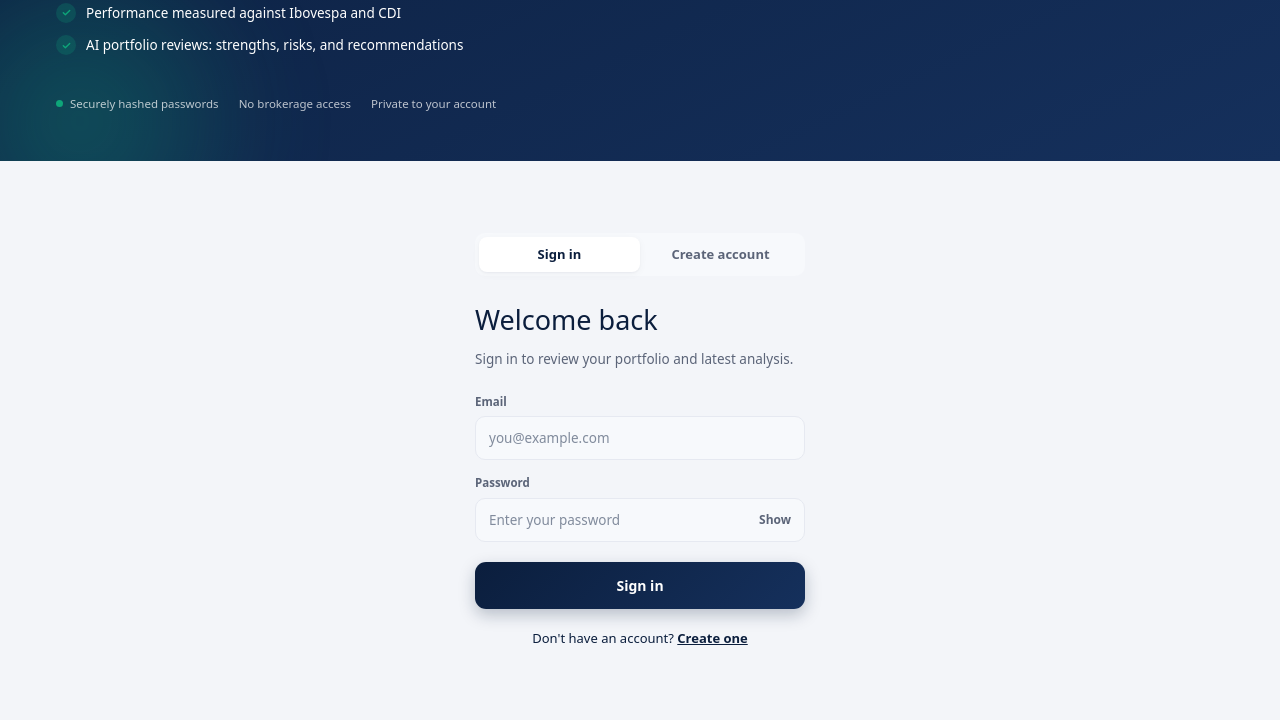
Test case: AuthScreen (signin mode) submit › rejecting with ApiError(401) shows "Email or password is incorrect.", never navigates, and keeps both input values
(page scrolled)
In the field labelled "Email": (640, 438) [475,416,805,460], type "ana@example.com"
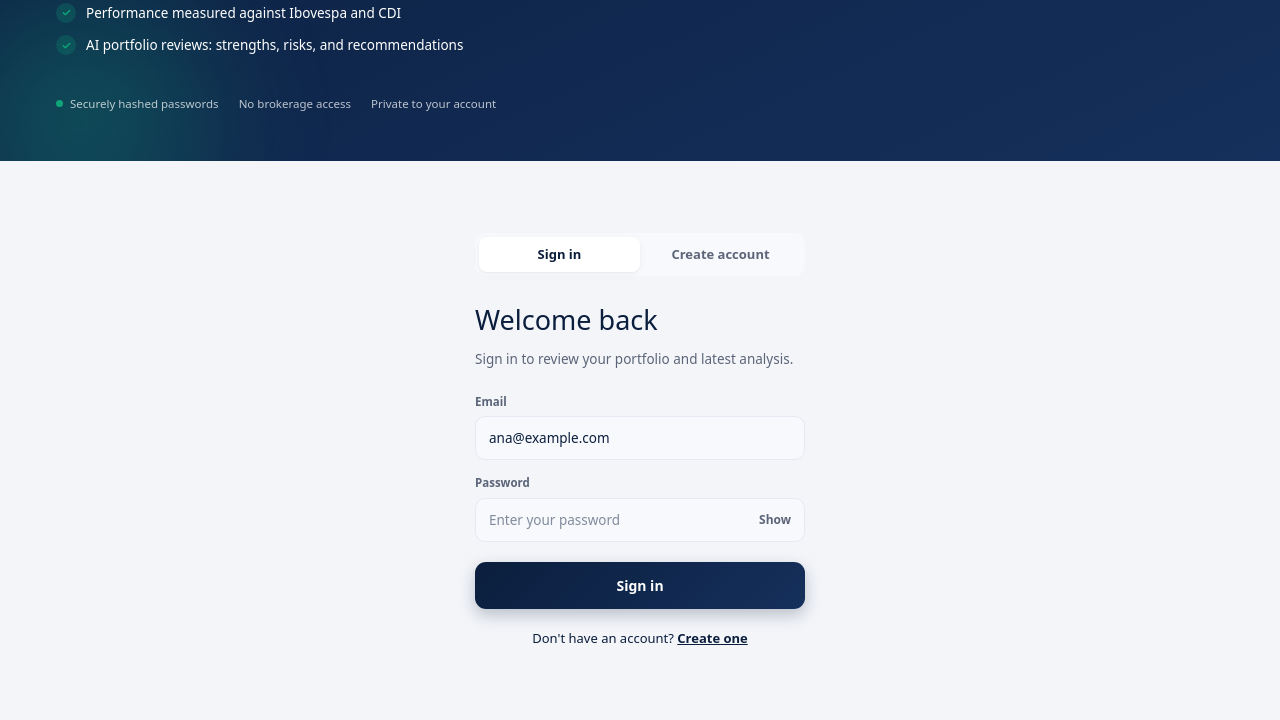
In the password field labelled "Password": (640, 520) [475,498,805,542], type "hunter2"
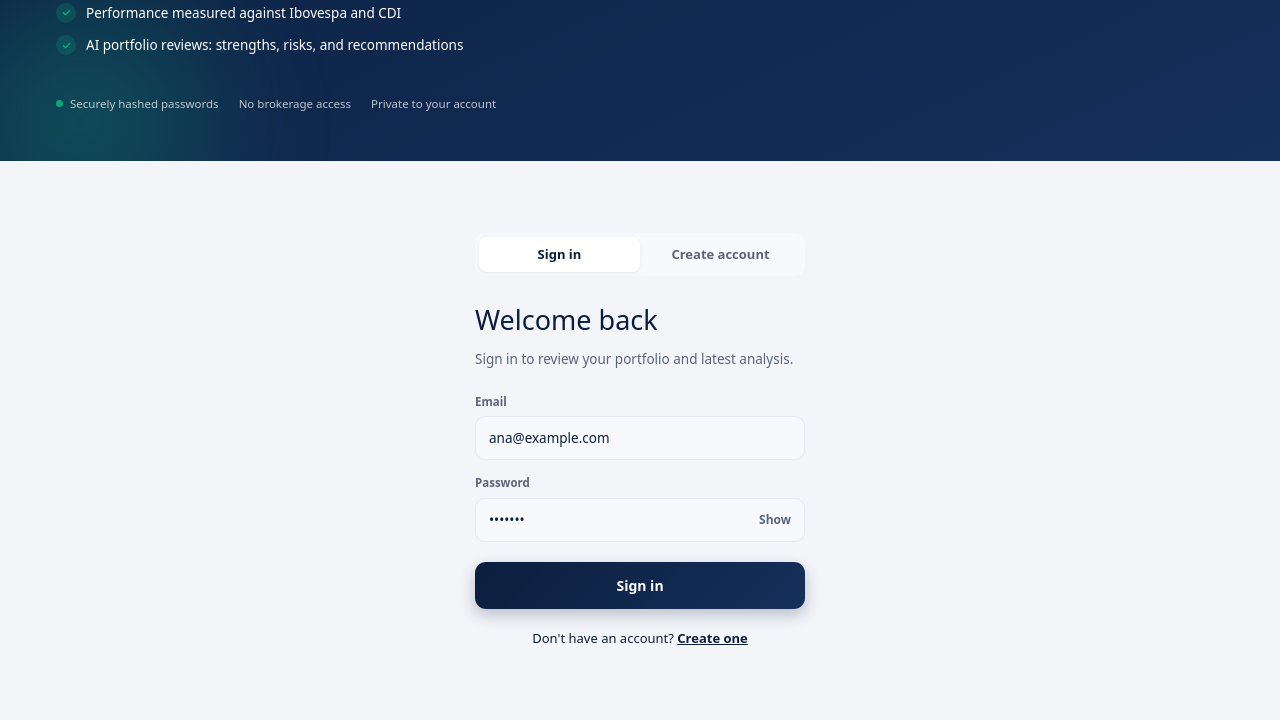
Click the button "Sign in" below "Email": (640, 585) [475,562,805,609]
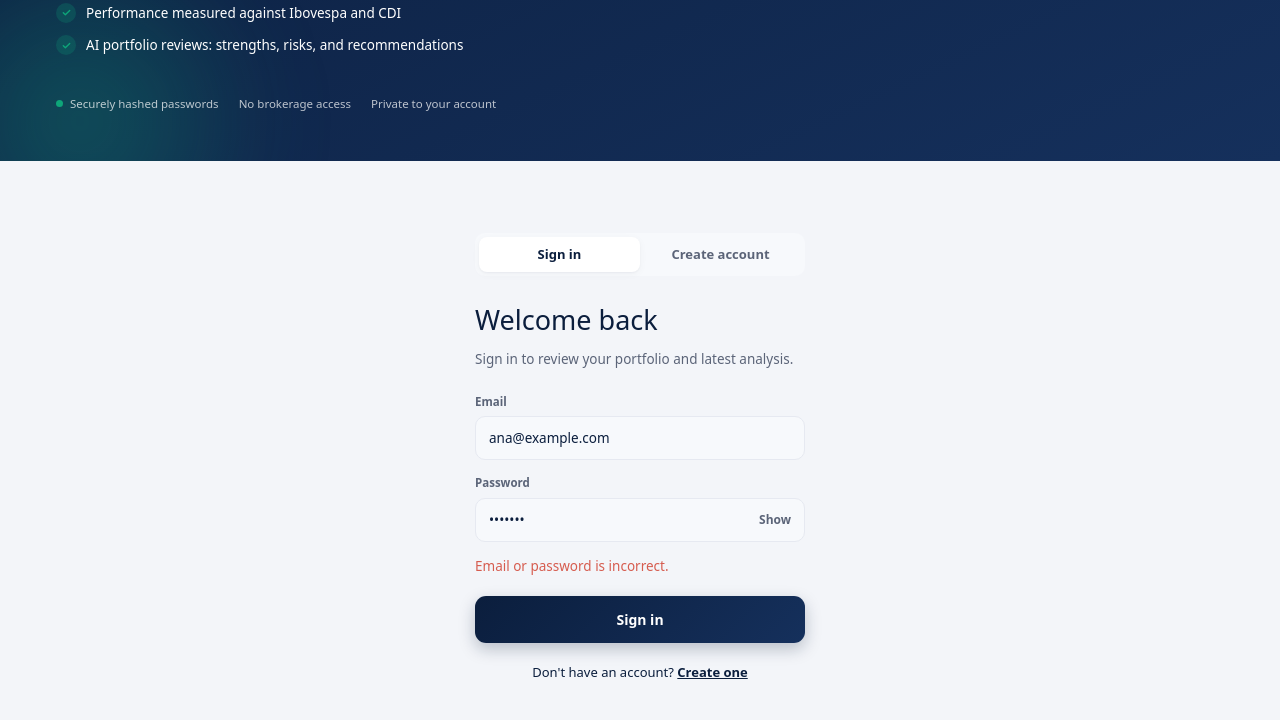
Now the message reads "Email or password is incorrect.", box [475,557,668,575]
